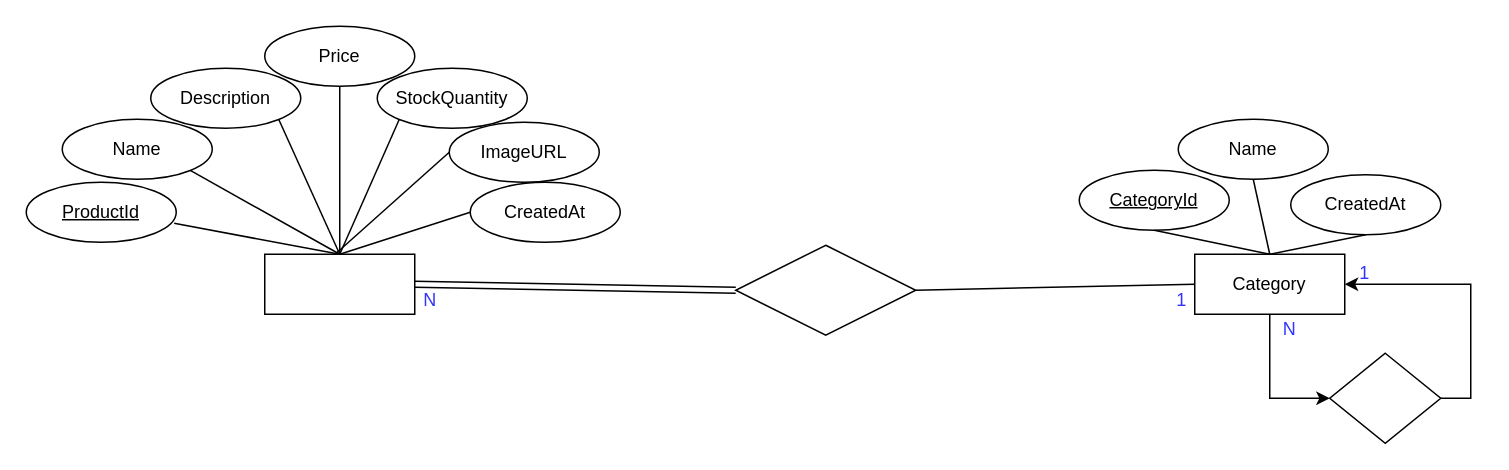
This 1509x470 diagram has some shape labels left out. The shapes that lost their labels are listed below. From the top down, each one's centre as x and y in pixels, then its label:
At pixel 339 283: "Product".
At pixel 825 289: "BelongsTo".
At pixel 1384 397: "LinkedTo".
